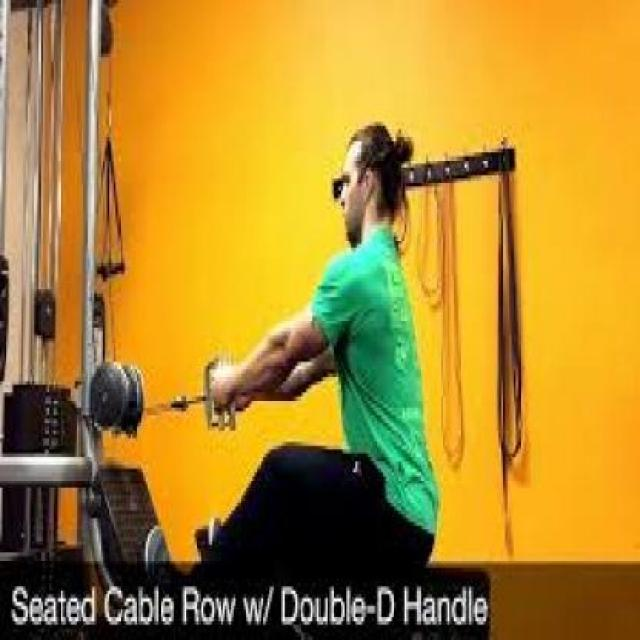Seated Cable Rows: (0, 1, 495, 640)
